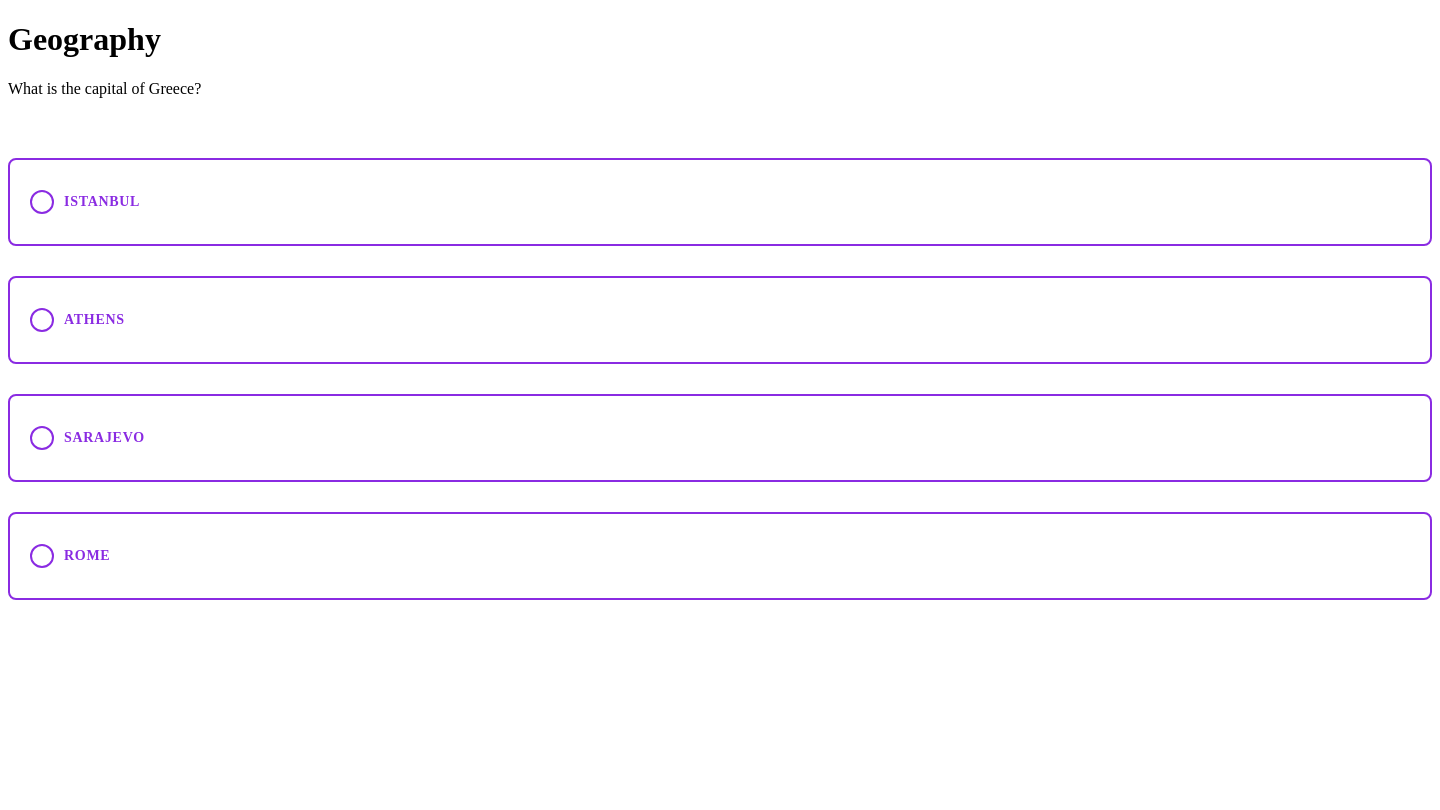
Test: QuestionComponent › selecting an option activates the next button
Click the element showing "Istanbul" at (720, 202), box [8,158,1432,246]
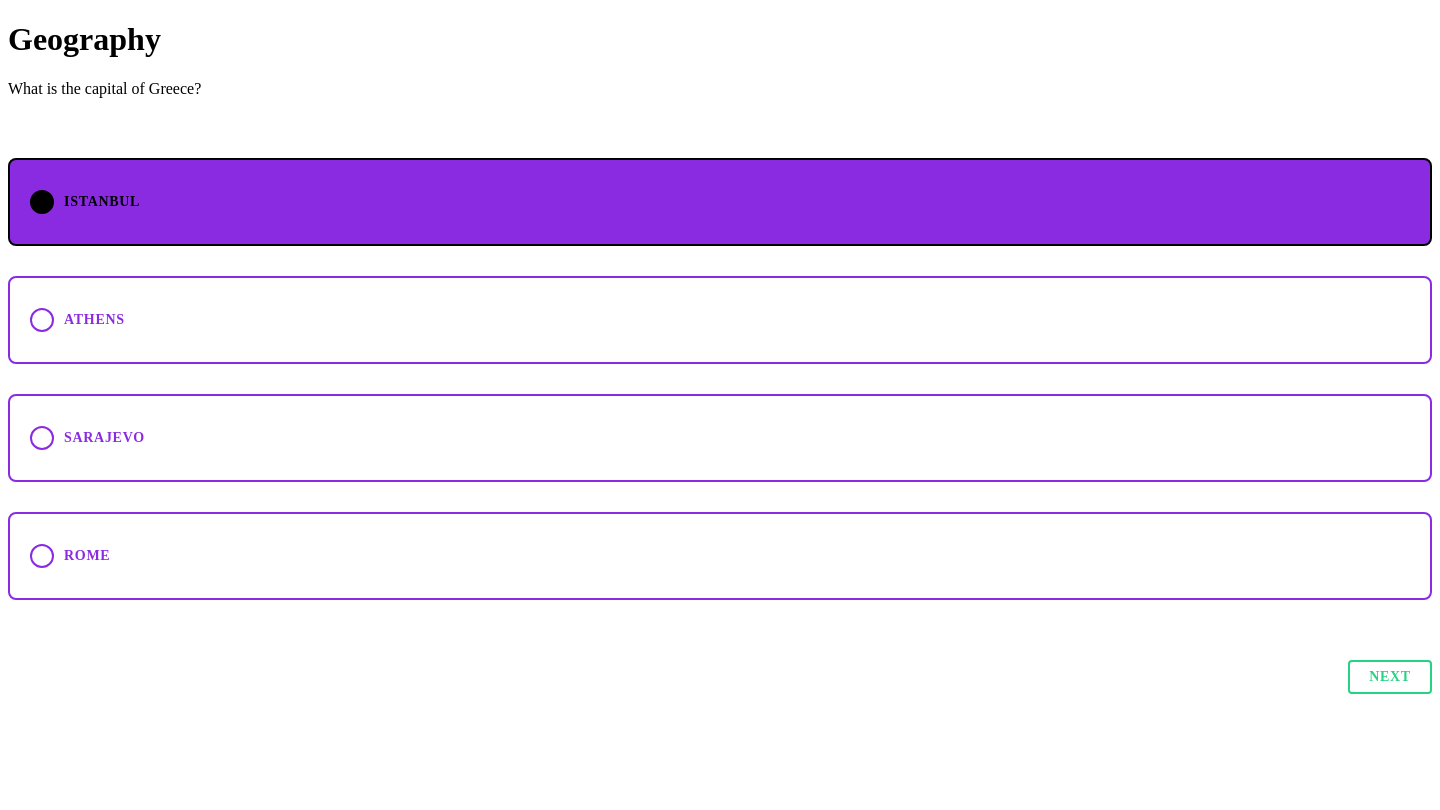
Expected: the link "Next" is shown, [1348,660,1432,694]
